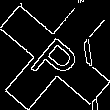P_NE: (24, 24, 86, 86)
